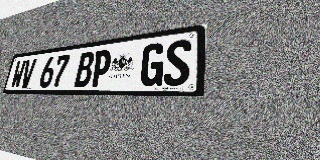6: (38, 56, 57, 88)
7: (51, 54, 70, 88)
B: (74, 51, 95, 87)
G: (139, 42, 166, 87)
P: (89, 49, 112, 87)
S: (163, 39, 192, 86)
V: (20, 59, 37, 88)
W: (10, 60, 27, 88)
